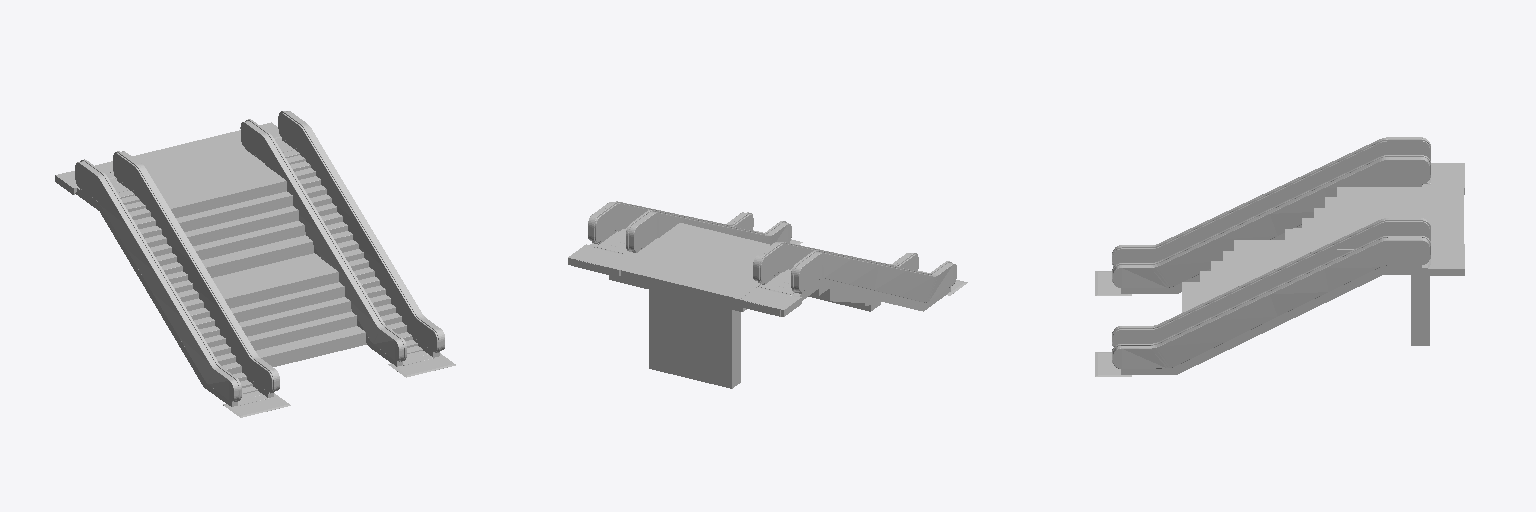
Rendered from Escalera.obj.
3 renders of one model, left to right at view 1: azimuth 30°, elevation 25°; view 2: azimuth 150°, elevation 25°; view 3: azimuth 270°, elevation 25°, orthographic.
Parts seen in each view (by area): view 1: EscaElec, EscaElec.001, Escalera.002, Escalera.001; view 2: Escalera.002, EscaElec, EscaElec.001, Escalera.001; view 3: EscaElec.001, EscaElec, Escalera.002, Escalera.001.
Boxes of the visible parts, box(x1,y1,x2,y2) form: EscaElec: box(55, 151, 290, 417); EscaElec.001: box(234, 111, 455, 377); Escalera.002: box(100, 132, 313, 277); Escalera.001: box(212, 253, 366, 366); Escalera.002: box(607, 223, 827, 388); EscaElec: box(733, 242, 967, 316); EscaElec.001: box(568, 201, 802, 276); Escalera.001: box(808, 289, 880, 311); EscaElec.001: box(1095, 218, 1464, 376); EscaElec: box(1095, 137, 1464, 295); Escalera.002: box(1285, 185, 1463, 345); Escalera.001: box(1182, 240, 1284, 312).
Bounding box in the file's own units: 8.34 × 5.03 × 12.32.